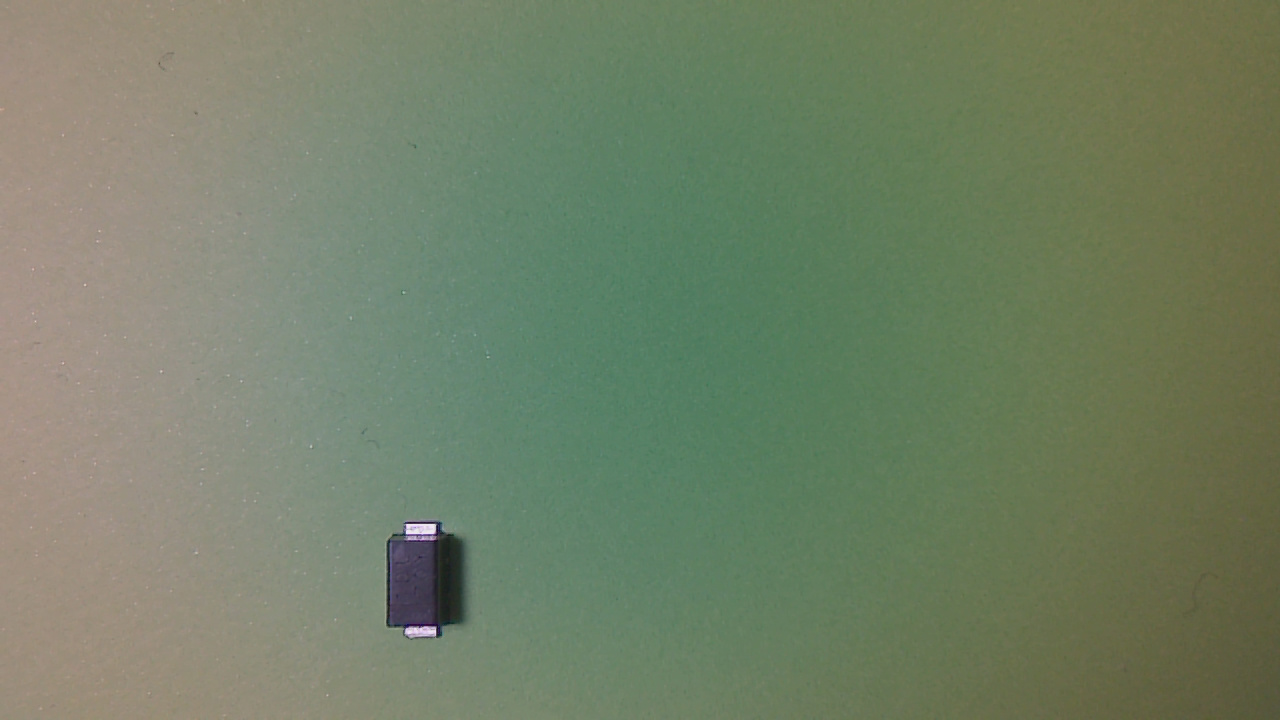Diode: (388, 523, 459, 646)
